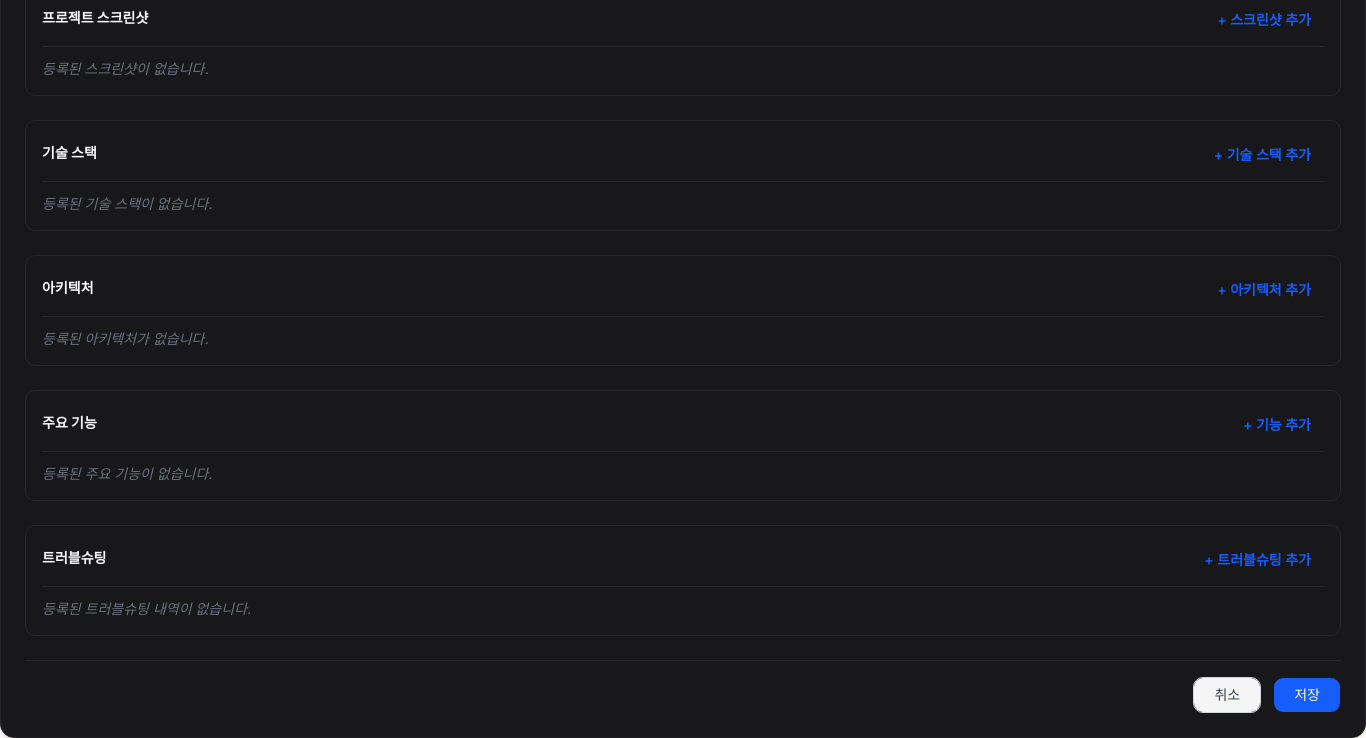
ProjectForm 컴포넌트 › 트러블슈팅 항목 추가 버튼 클릭 시 새로운 필드가 렌더링되어야 한다
(page scrolled)
Click the button "+ 트러블슈팅 추가" at {"x": 1258, "y": 560}, box [1191,542,1324,578]
(page scrolled)
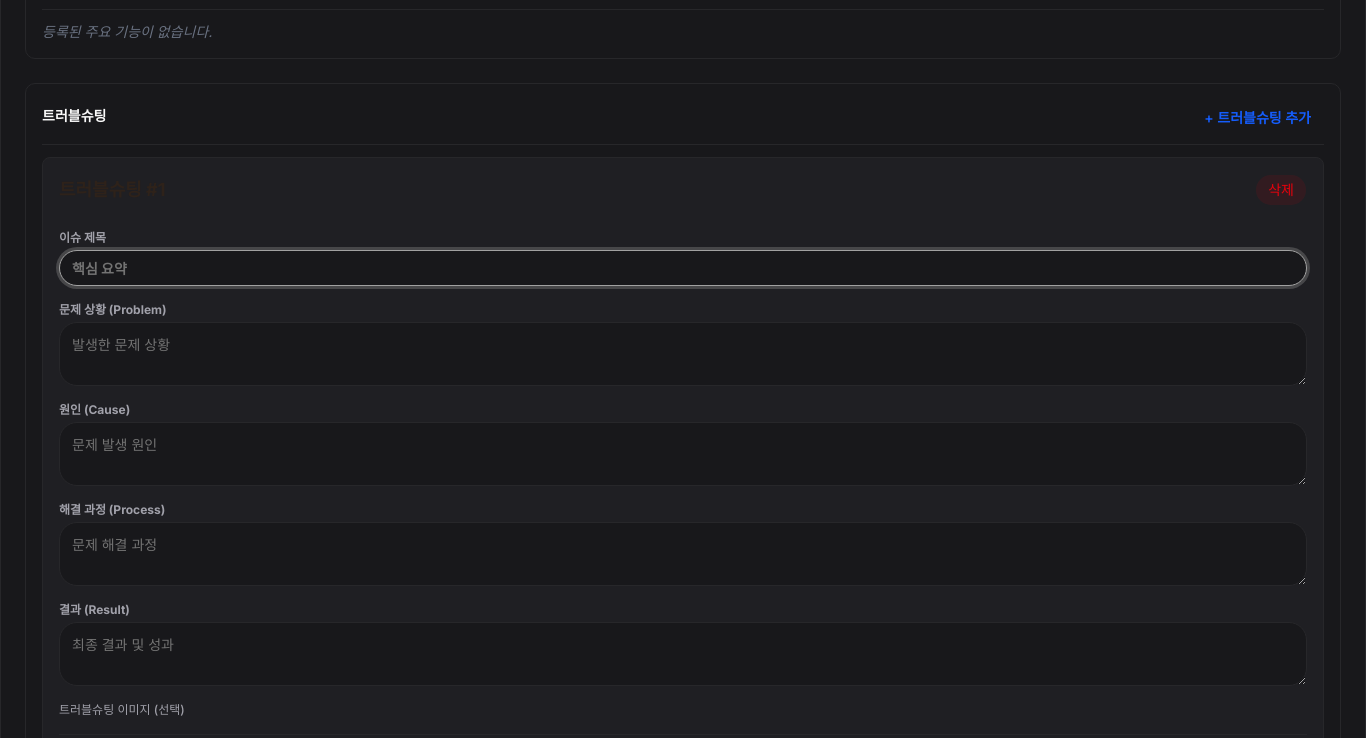
Expected: the text box with placeholder "발생한 문제 상황" is shown, [59,322,1307,386]
